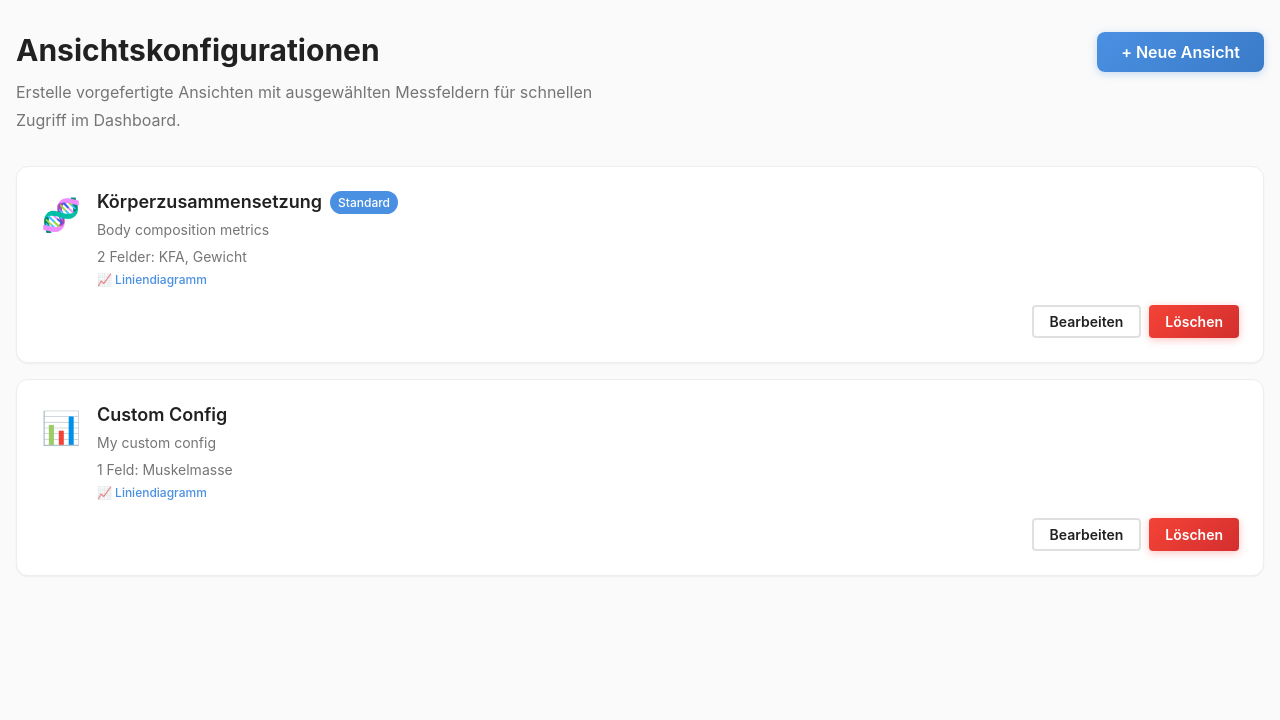
ViewConfigsPage Component › Create View Config › should show error when submitting without name
This screenshot has width=1280, height=720.
Click the button "+ Neue Ansicht". click: (1181, 52)
box: [1097,32,1264,72]
(page scrolled)
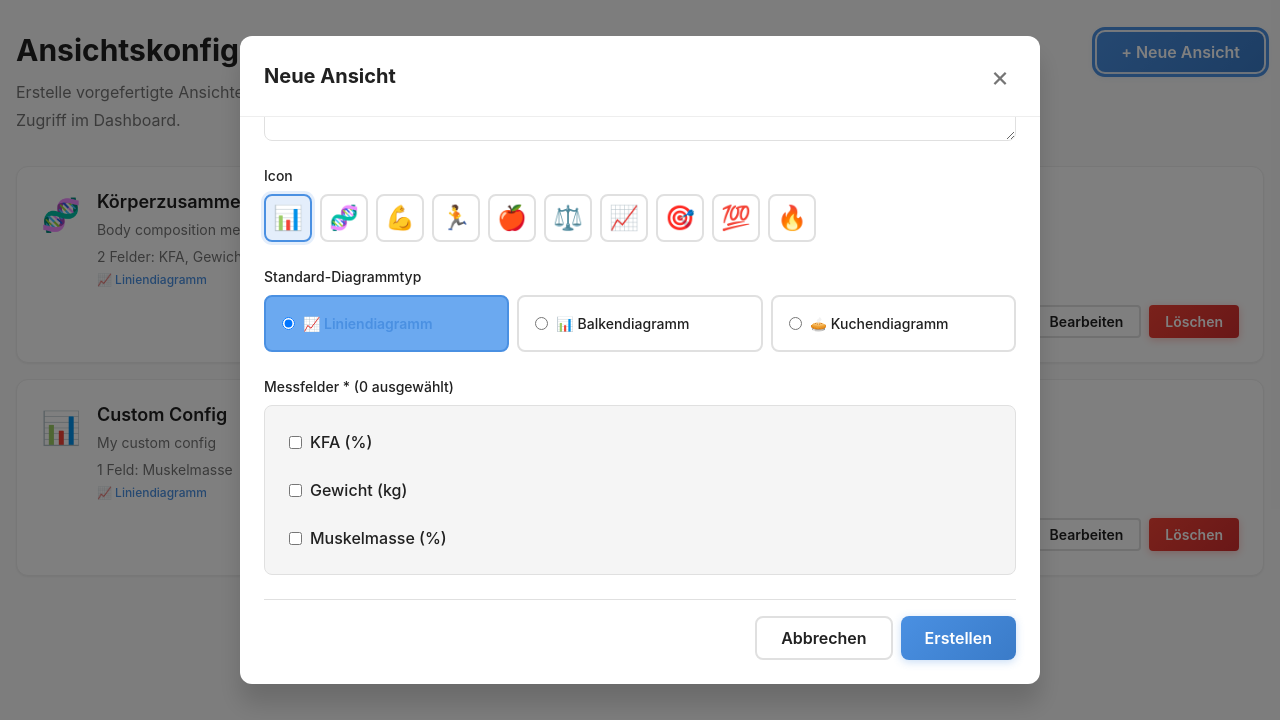
Click the button "Erstellen". click: (958, 638)
box: [901,616,1016,660]
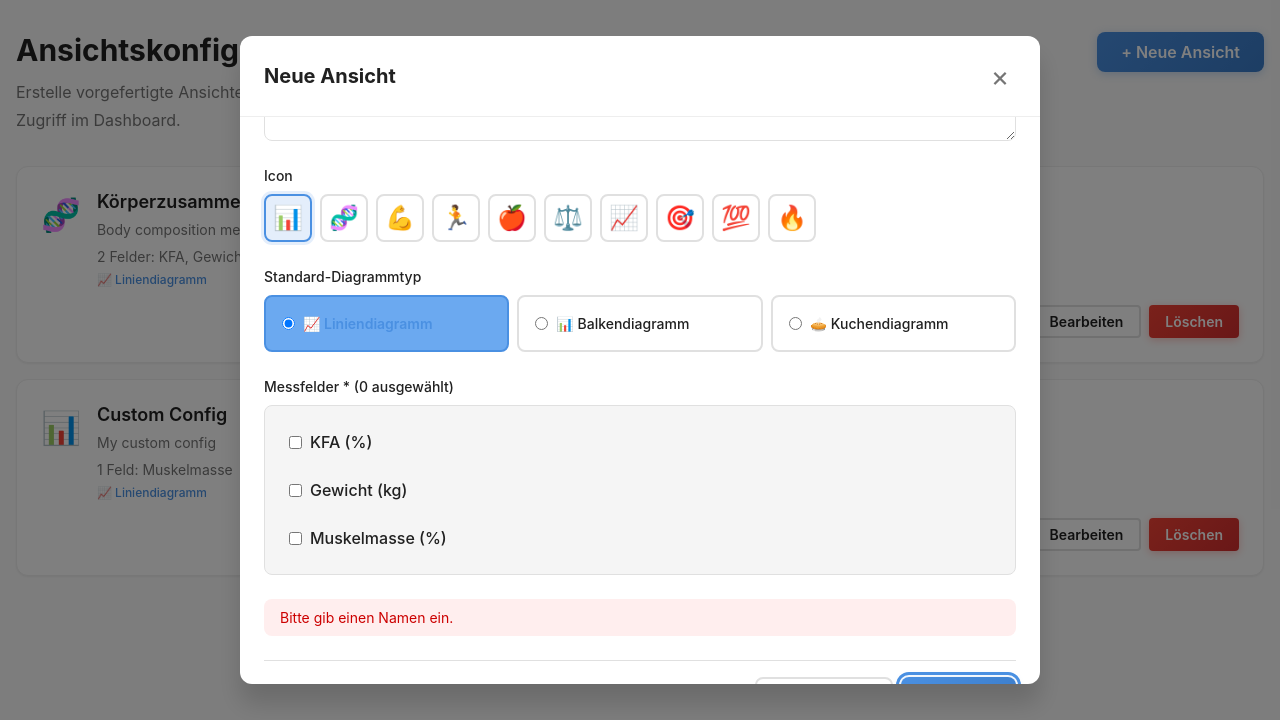
expect the text "Bitte gib einen Namen ein." is shown: met, box [264,599,1016,636]
